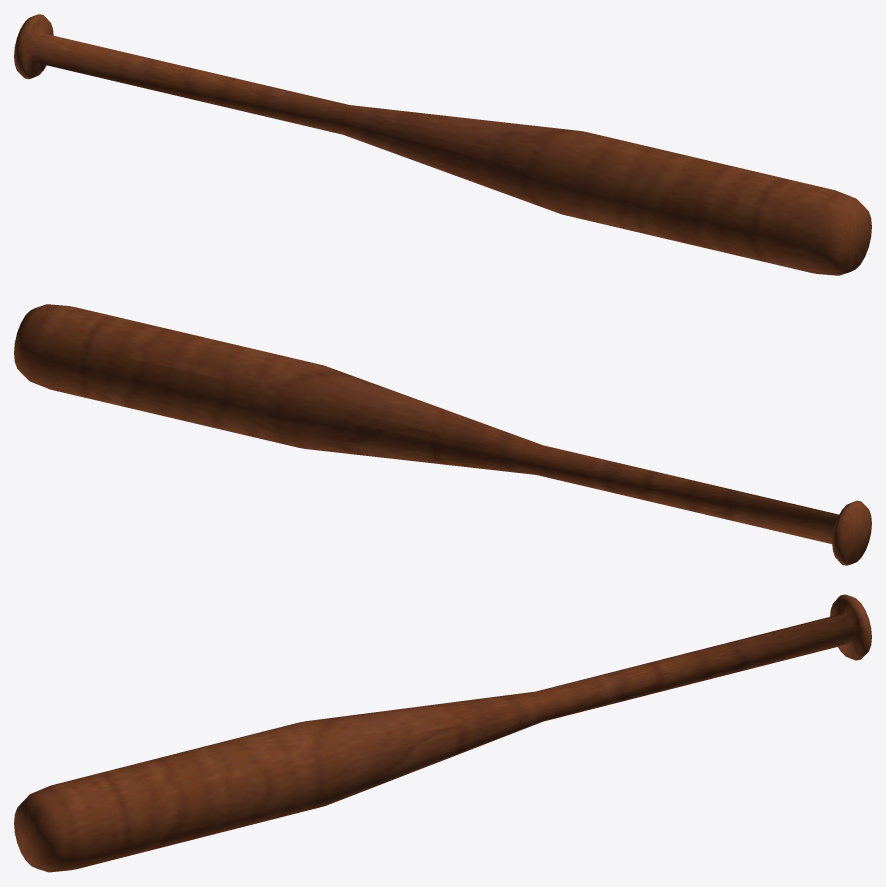
File: icon1.ico.obj
3 views of the same model, one above another, from view 1: azimuth 30°, elevation 25°; view 2: azimuth 210°, elevation 25°; view 3: azimuth 270°, elevation 25° (orthographic).
Bounding box in the file's own units: 2.94 × 0.4714 × 4.58.
Materials: 1 (1 with a texture image).
